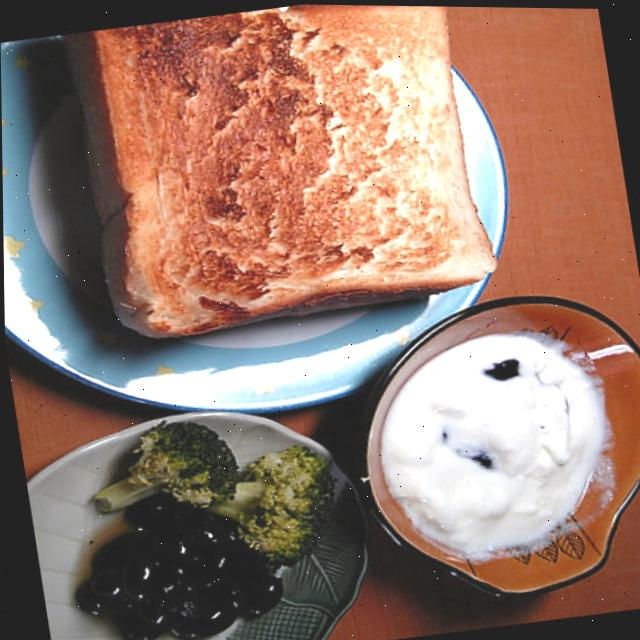面包点心: (42, 0, 503, 347)
